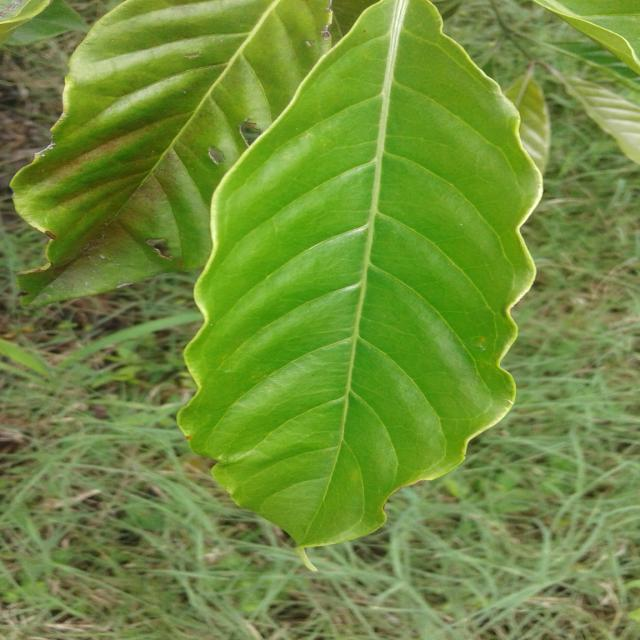Sanas: (174, 0, 549, 551)
